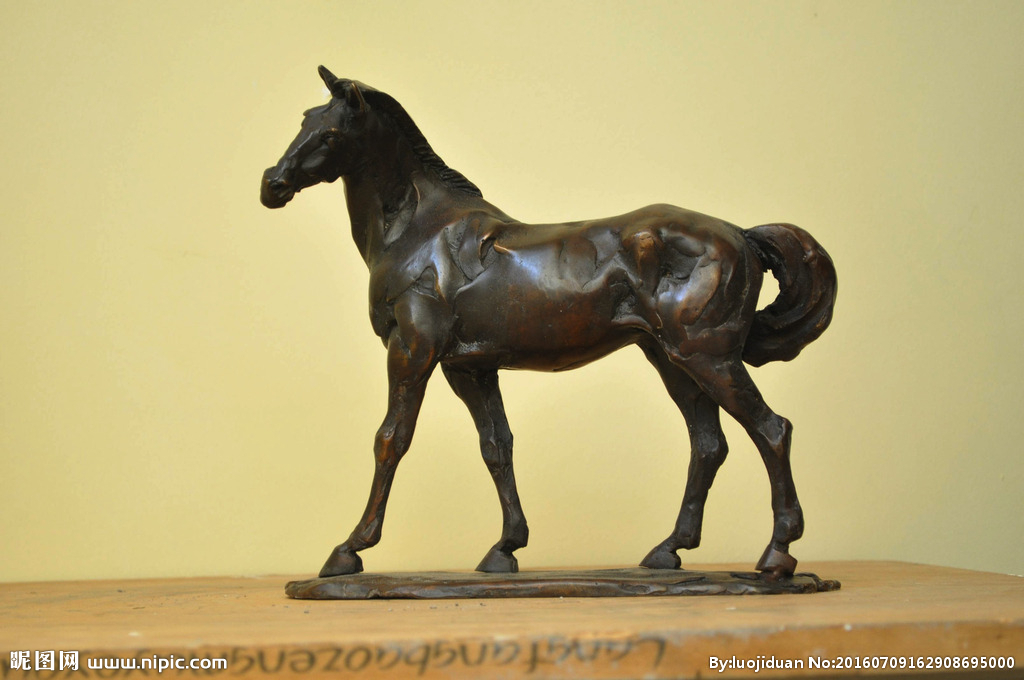background: (259, 64, 838, 586)
